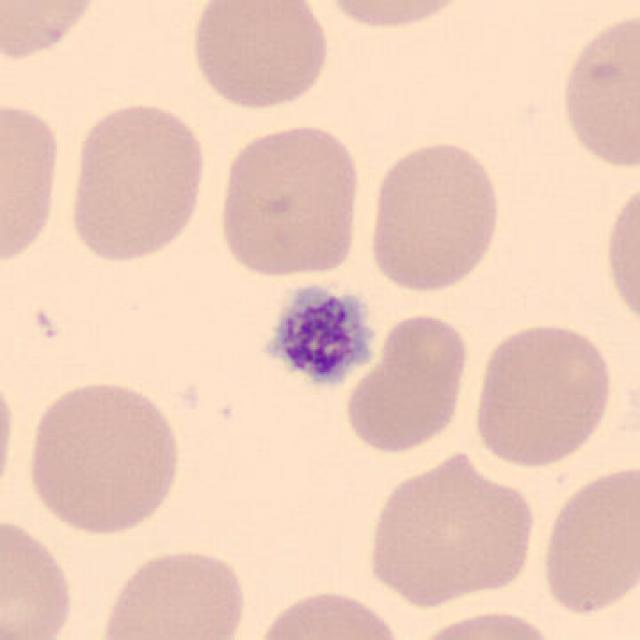Platelets: (260, 280, 380, 393)
RBC: (361, 448, 540, 610), (21, 376, 187, 538), (213, 118, 368, 282), (62, 95, 210, 266), (362, 136, 507, 296), (467, 317, 617, 471), (338, 307, 474, 458), (185, 0, 332, 113), (535, 460, 638, 621), (94, 543, 251, 640), (555, 7, 638, 175), (0, 95, 66, 270), (0, 509, 78, 640), (249, 583, 409, 640), (599, 173, 640, 337), (0, 0, 103, 65), (405, 606, 565, 640), (314, 0, 476, 33), (0, 363, 20, 515)
